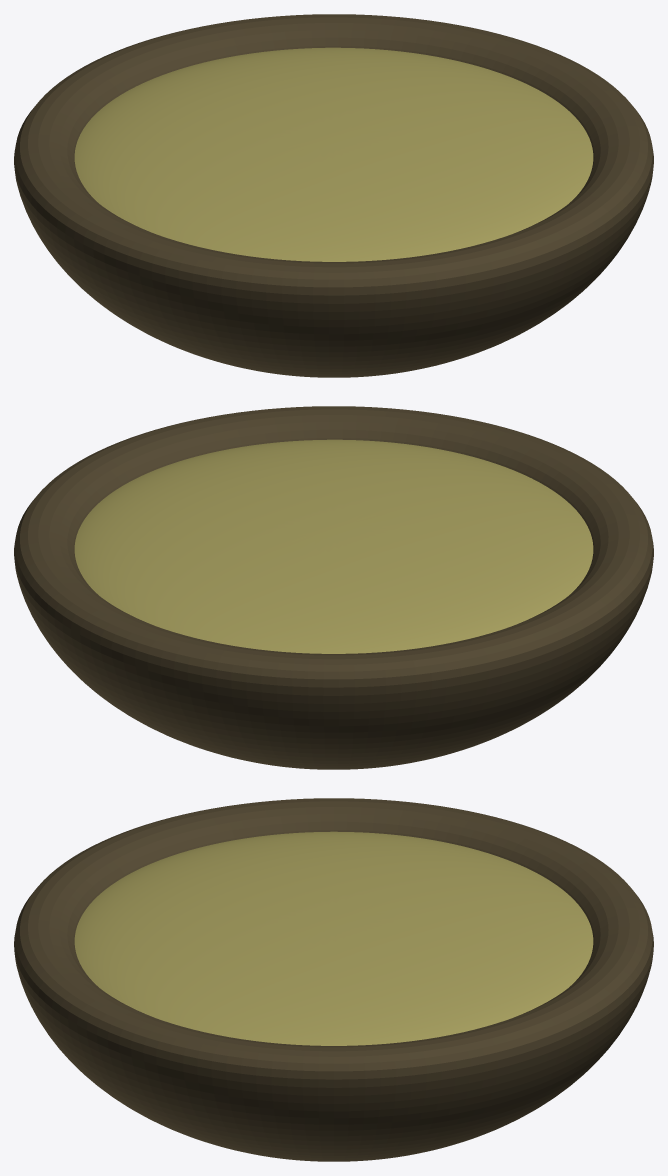
The model's file is AcornFlour.fbx.
The picture shows the model from 3 angles, top to bottom: view 1: azimuth 30°, elevation 25°; view 2: azimuth 150°, elevation 25°; view 3: azimuth 270°, elevation 25°; orthographic projection.
Parts seen in each view (by area): view 1: Sphere; view 2: Sphere; view 3: Sphere.
Boxes of the visible parts, x1,y1,x2,y2 form: Sphere: (14,14,653,377); Sphere: (14,406,653,769); Sphere: (14,798,653,1161).
Size of the model in its own units: 196 by 67.2 by 196.
